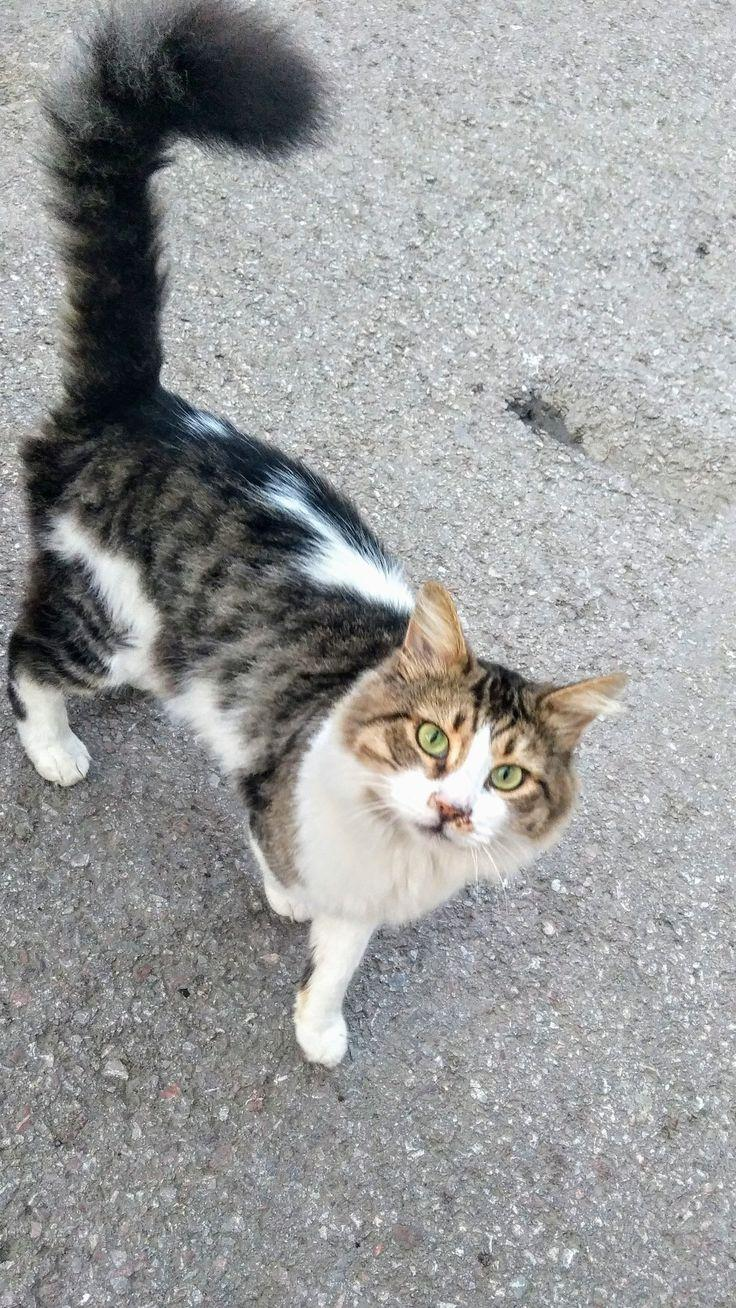kedo: (11, 335, 626, 1066)
